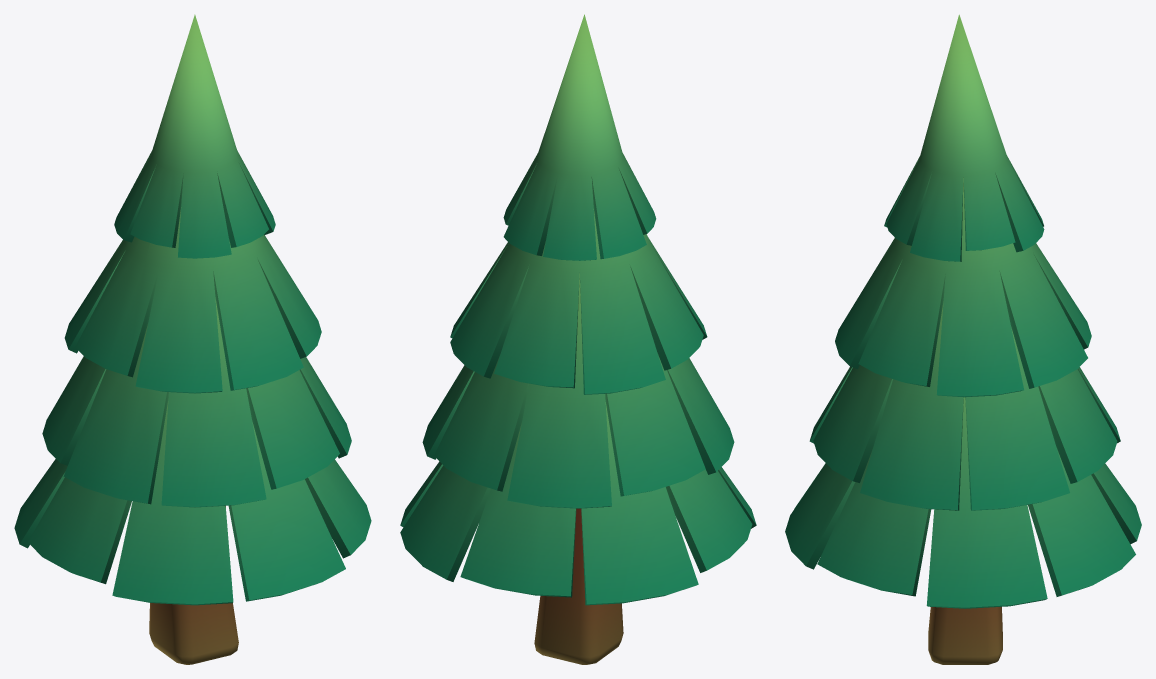
Rendered from Spruce02.fbx.
3 renders of one model, left to right at view 1: azimuth 30°, elevation 25°; view 2: azimuth 150°, elevation 25°; view 3: azimuth 270°, elevation 25°, orthographic.
Visible parts, largest first — view 1: Spruce_Top2, Trunk04; view 2: Spruce_Top2, Trunk04; view 3: Spruce_Top2, Trunk04.
Boxes of the visible parts, bbox=[...] form: Spruce_Top2: bbox=[14, 14, 371, 605]; Trunk04: bbox=[149, 506, 238, 664]; Spruce_Top2: bbox=[400, 14, 756, 605]; Trunk04: bbox=[534, 508, 623, 664]; Spruce_Top2: bbox=[785, 14, 1141, 608]; Trunk04: bbox=[928, 607, 1002, 664].
Bounding box in the file's own units: 2.38 × 4.72 × 2.39.
